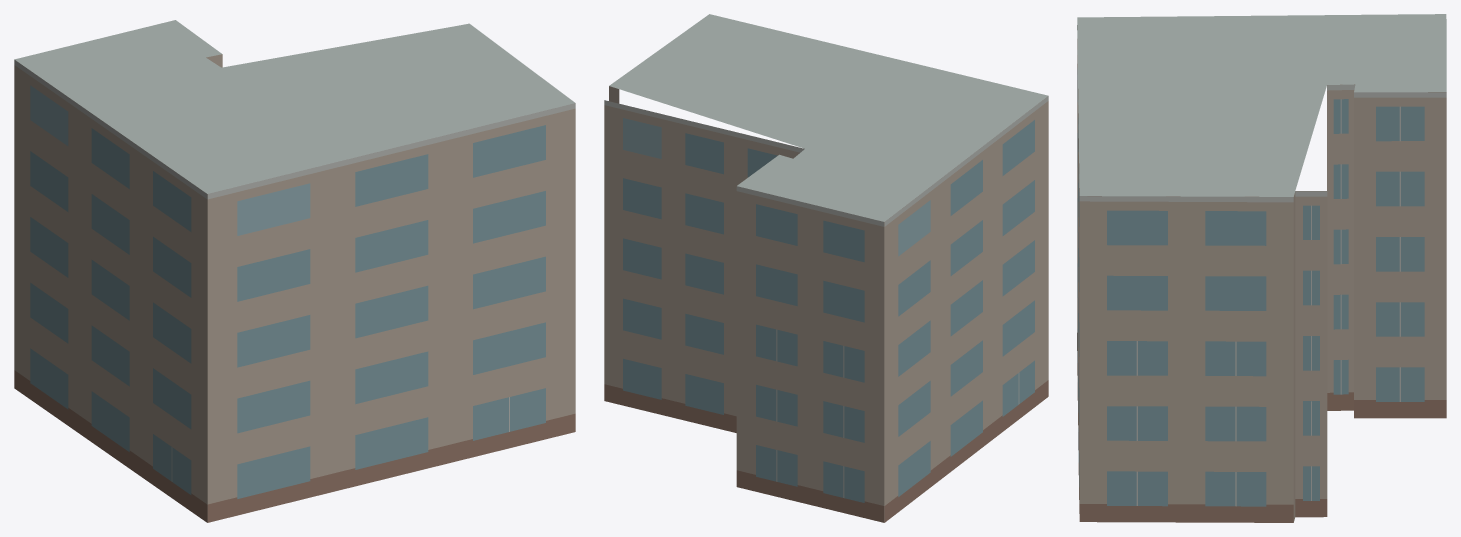
File: survey-upis-32741570.glb
3 renders of one model, left to right at view 1: azimuth 30°, elevation 25°; view 2: azimuth 150°, elevation 25°; view 3: azimuth 270°, elevation 25°, orthographic. The views are drawn at different scales.
Parts seen in each view (by area): view 1: survey-upis-32741570.tmp; view 2: survey-upis-32741570.tmp; view 3: survey-upis-32741570.tmp.
Part boxes in pixels (box(x1,y1,x2,y2)): survey-upis-32741570.tmp: box(14, 20, 575, 522); survey-upis-32741570.tmp: box(604, 14, 1048, 522); survey-upis-32741570.tmp: box(1077, 14, 1446, 522).
Bounding box in the file's own units: 17.7 × 14.7 × 15.12.
